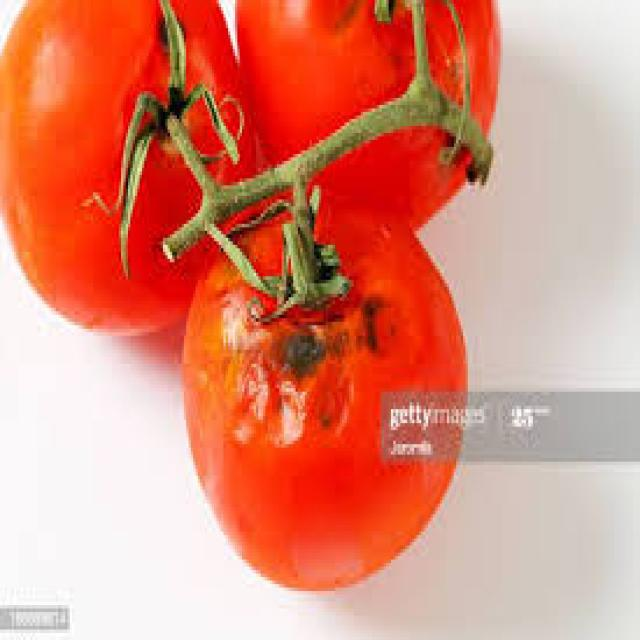food_waste: (0, 0, 496, 588)
